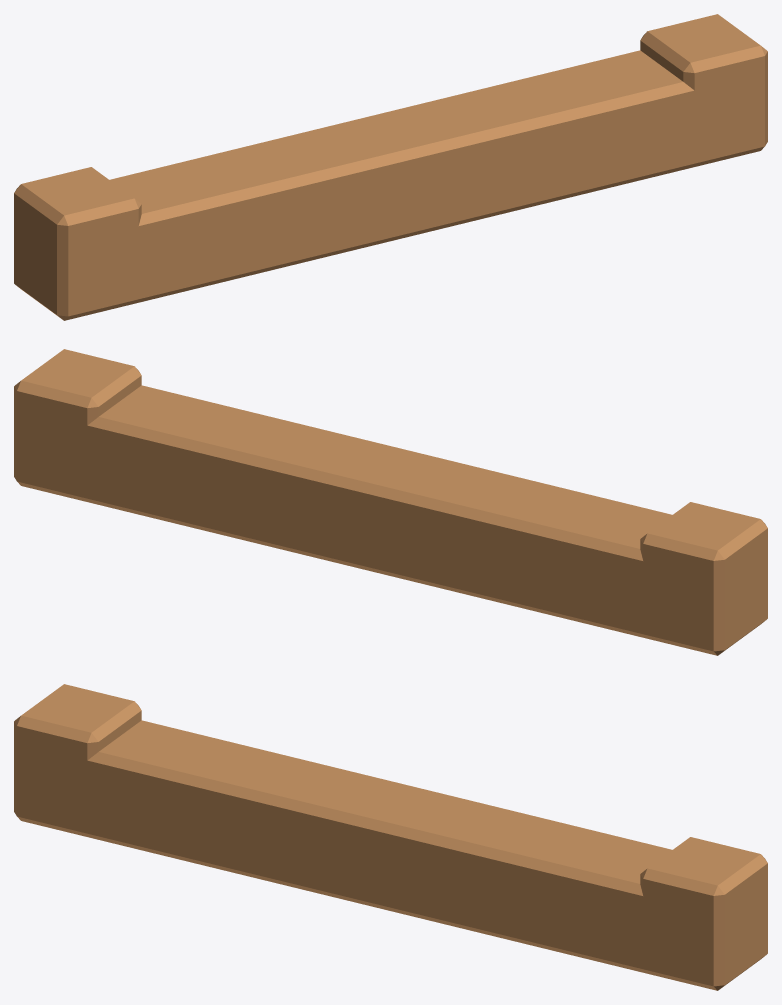
3 views of the same model, one above another, from view 1: azimuth 30°, elevation 25°; view 2: azimuth 150°, elevation 25°; view 3: azimuth 330°, elevation 25° (orthographic).
Visible parts, largest first — view 1: Cube.006; view 2: Cube.006; view 3: Cube.006.
Boxes of the visible parts, box(x1,y1,x2,y2) form: Cube.006: box(14, 14, 767, 320); Cube.006: box(14, 349, 767, 655); Cube.006: box(14, 684, 767, 990).
Bounding box in the file's own units: 3 × 0.4249 × 0.375.
